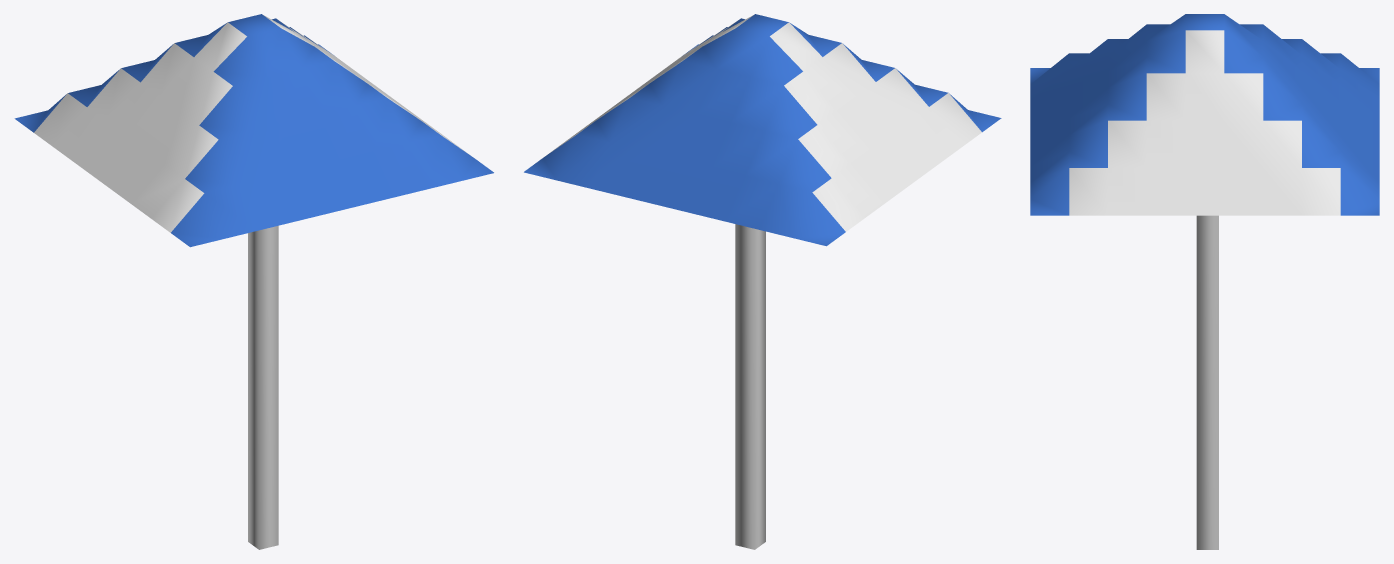
File: SOMBRINHA.dae
3 renders of one model, left to right at view 1: azimuth 30°, elevation 25°; view 2: azimuth 150°, elevation 25°; view 3: azimuth 270°, elevation 25°, orthographic.
Visible parts, largest first — view 1: Cube.273; view 2: Cube.273; view 3: Cube.273.
Part boxes in pixels (box(x1,y1,x2,y2)): Cube.273: box(14, 14, 493, 549); Cube.273: box(524, 14, 1001, 549); Cube.273: box(1030, 14, 1379, 549).
Bounding box in the file's own units: 4.88 × 4.88 × 7.99.
